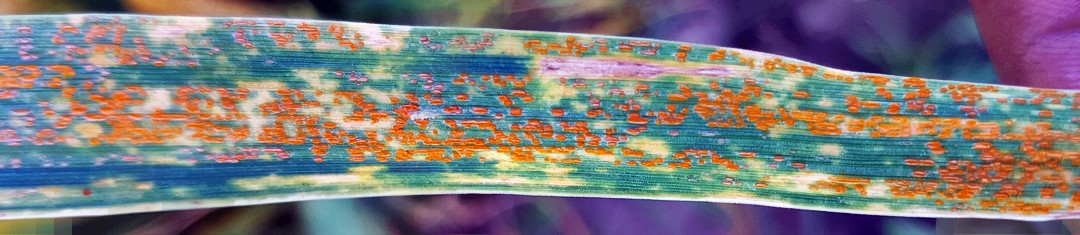Leaf Rust: (14, 8, 1070, 230)
